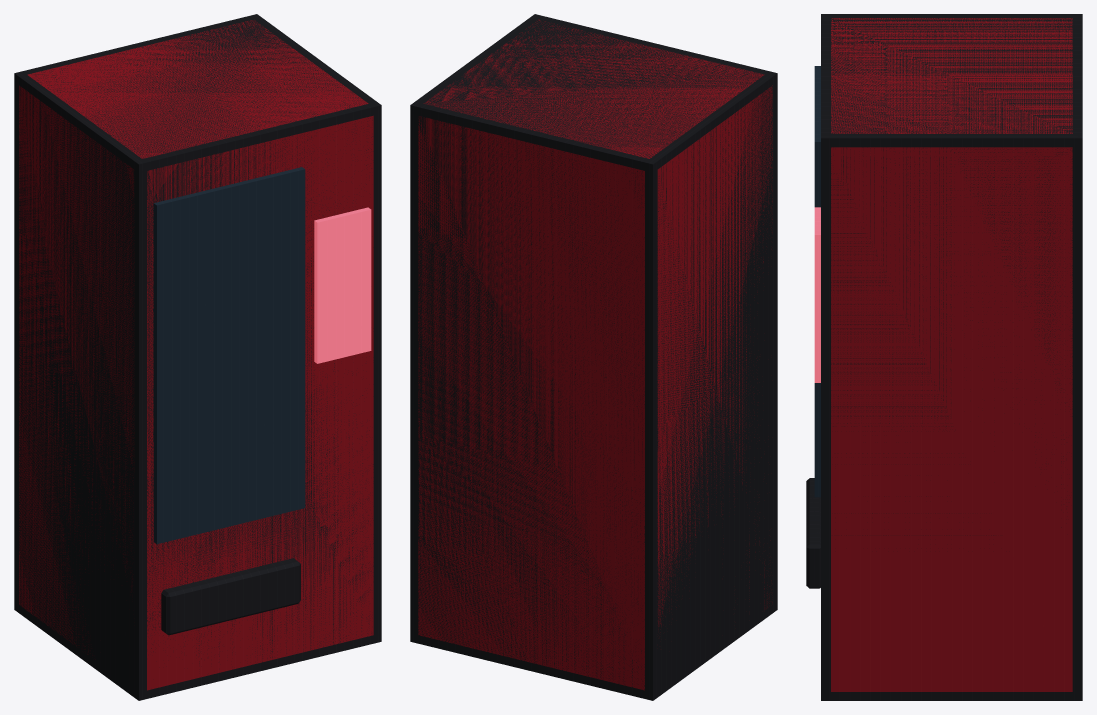
File: kit_vending_machine.glb
The picture shows the model from 3 angles, left to right: view 1: azimuth 30°, elevation 25°; view 2: azimuth 150°, elevation 25°; view 3: azimuth 270°, elevation 25°; orthographic projection. The views are drawn at different scales.
Parts seen in each view (by area): view 1: vm_body, vm_COL, vm_glass, vm_panel, vm_tray; view 2: vm_body, vm_COL; view 3: vm_body, vm_COL, vm_glass, vm_tray, vm_panel.
Part boxes in pixels (x1,y1,x2,y2): vm_body: (19,20,373,690); vm_COL: (14,14,381,700); vm_glass: (153,167,305,544); vm_panel: (314,207,371,363); vm_tray: (161,558,300,635); vm_body: (418,19,772,690); vm_COL: (410,14,777,700); vm_body: (831,18,1072,691); vm_COL: (821,14,1082,700); vm_glass: (814,66,820,497); vm_tray: (806,478,820,588); vm_panel: (814,207,820,382).
Size of the model in its own units: 0.9 by 1.9 by 0.845.
5 materials, 5 textured.
